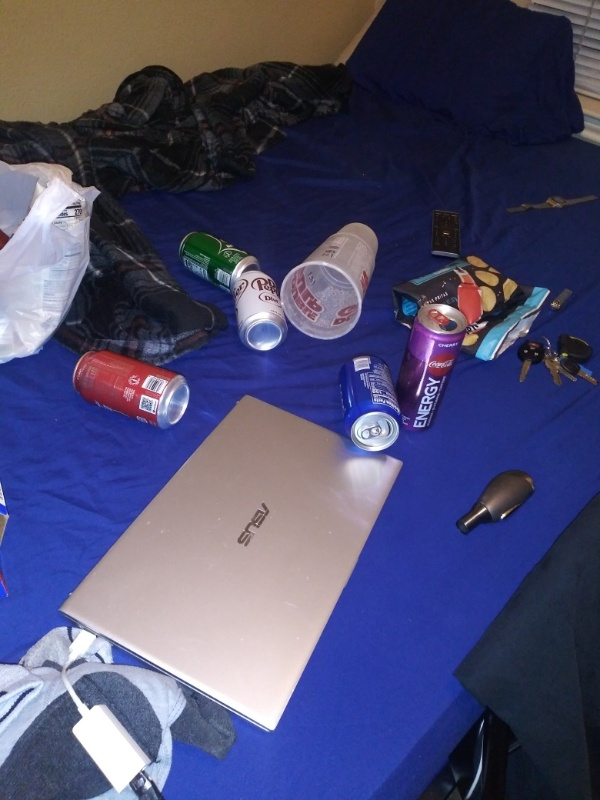can: (71, 346, 193, 431), (398, 300, 466, 437), (332, 351, 404, 454), (174, 229, 267, 295), (231, 268, 290, 354)
